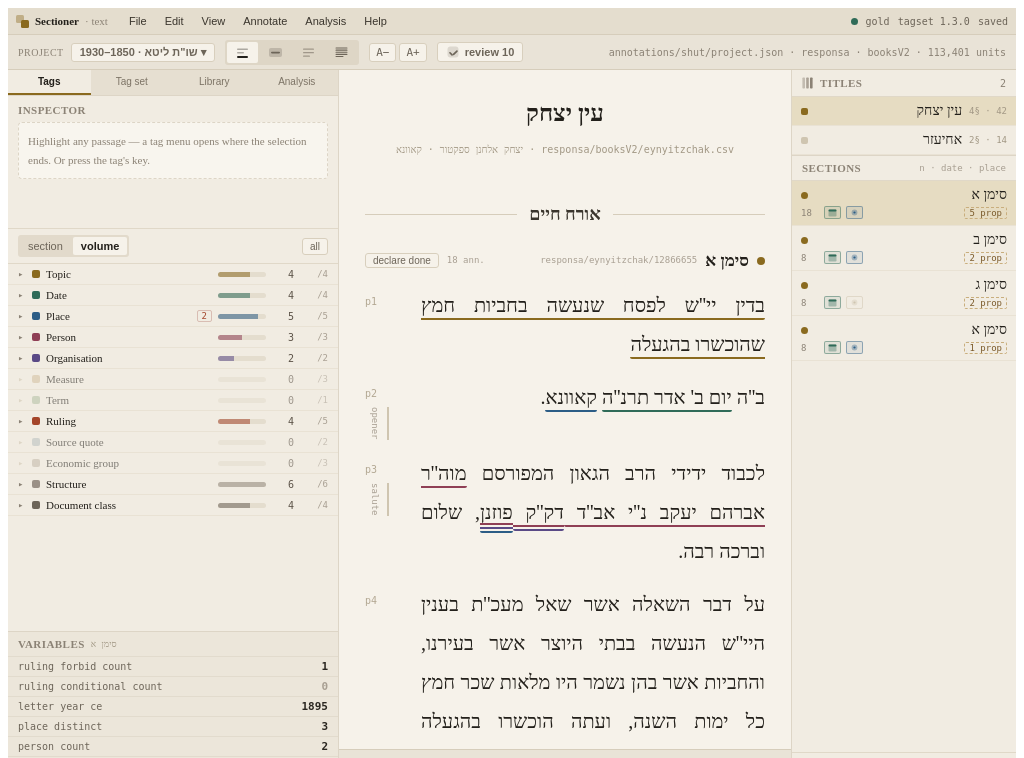
it: the side panels › expands a tag group and lists its annotations
Click the text "Place".
click(242, 316)  # box x1=8 y1=306 x2=338 y2=326
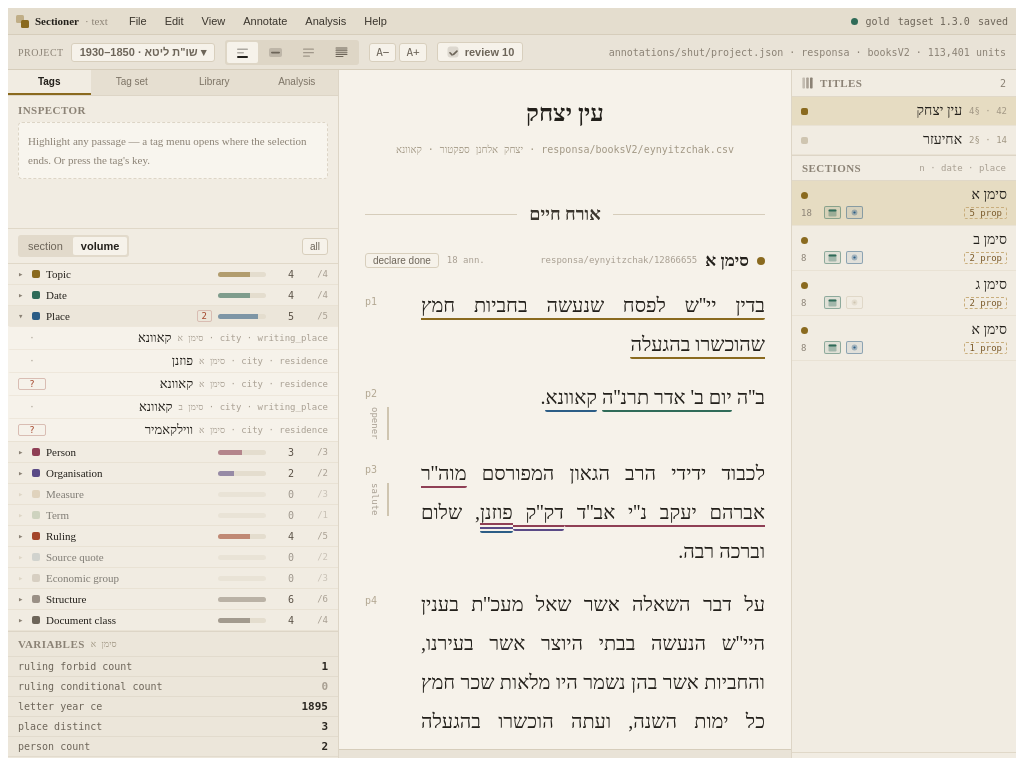
expect the text "קאוונא" next to "סימן א · city · writing_place" is shown: met, box x1=138 y1=330 x2=172 y2=345
